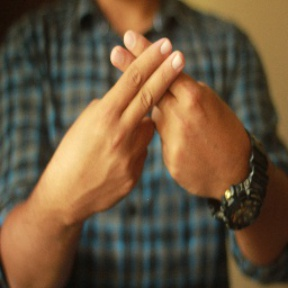F: (93, 23, 212, 158)
